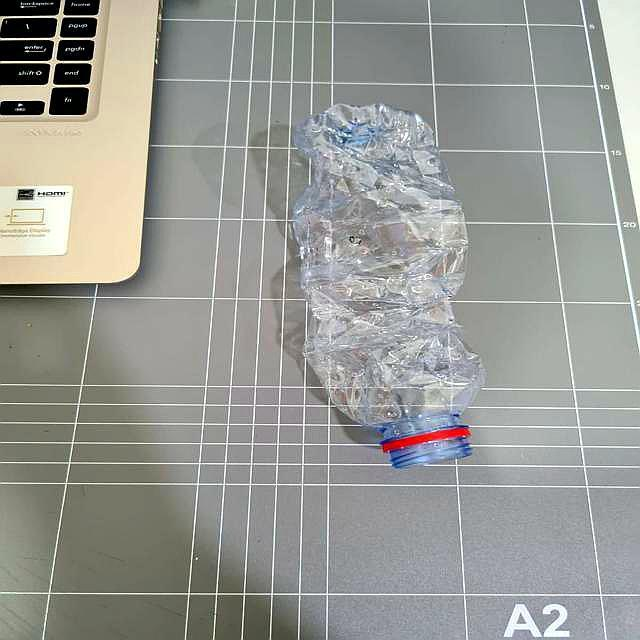Non-biodegradable: (283, 101, 479, 479)
